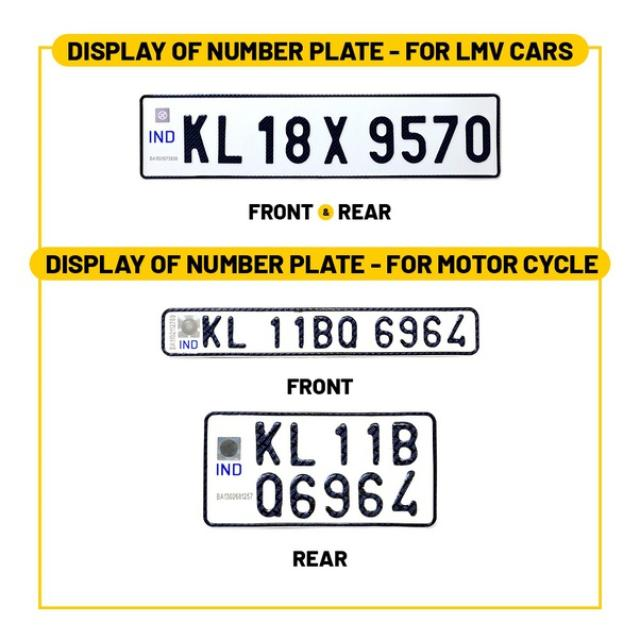plate: (137, 92, 502, 181), (203, 410, 438, 529), (162, 306, 483, 359)
